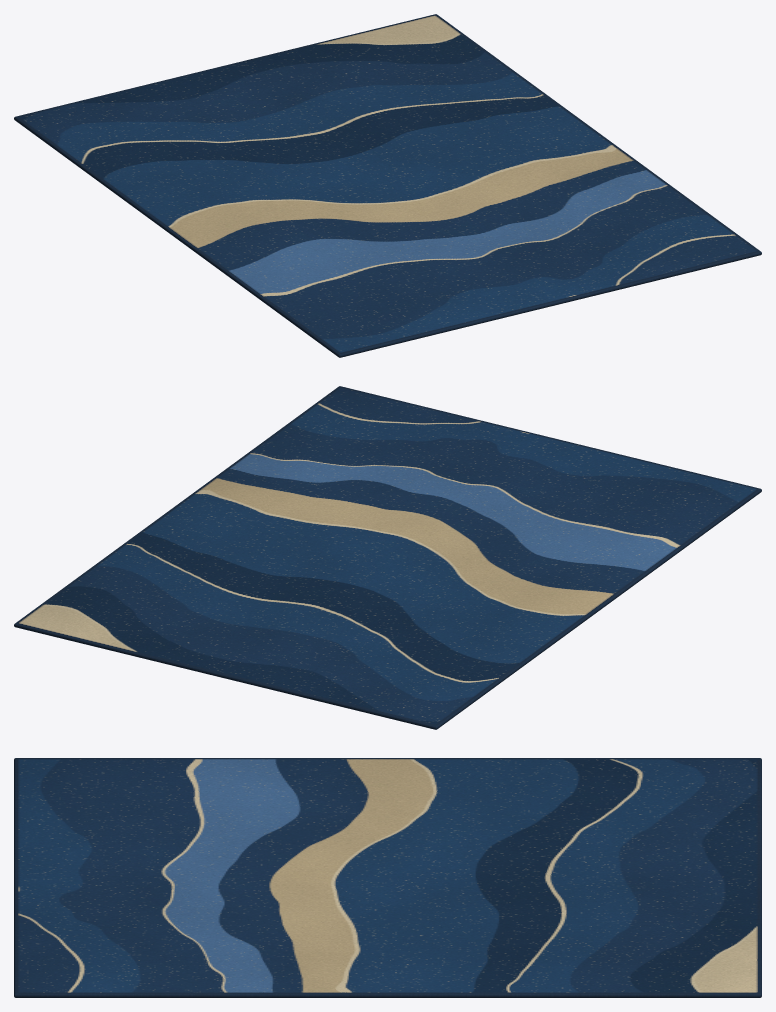
The model's file is rug-motion-wall-marine.8f9bebe1.glb.
3 renders of one model, top to bottom at view 1: azimuth 30°, elevation 25°; view 2: azimuth 150°, elevation 25°; view 3: azimuth 270°, elevation 25°, orthographic. The views are drawn at different scales.
Parts seen in each view (by area): view 1: rug-motion-wall-marine; view 2: rug-motion-wall-marine; view 3: rug-motion-wall-marine.
Part boxes in pixels (x1,y1,x2,y2): rug-motion-wall-marine: (14,14,761,357); rug-motion-wall-marine: (14,386,761,729); rug-motion-wall-marine: (14,758,761,997).
Size of the model in its own units: 1.35 by 0.011 by 1.8.
1 material, 1 textured.
